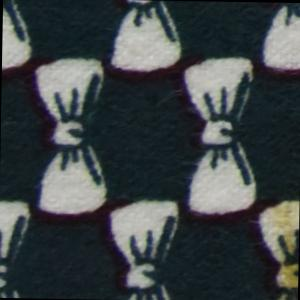Stain: (257, 194, 300, 300)
